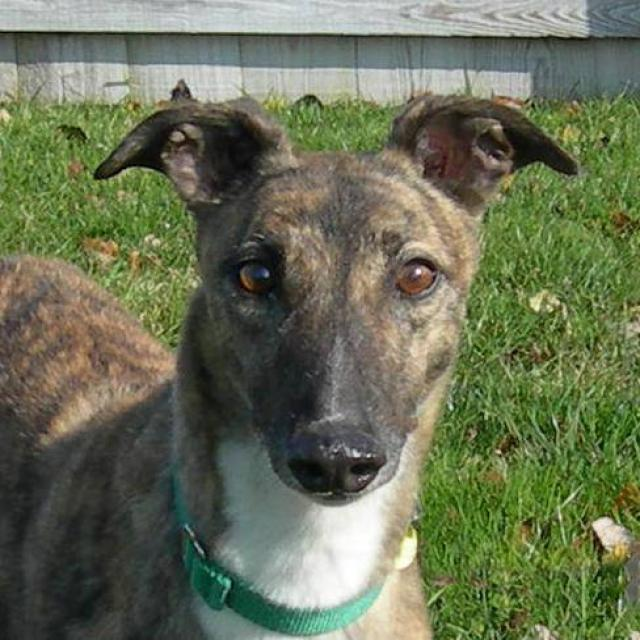dog: (0, 78, 578, 638)
